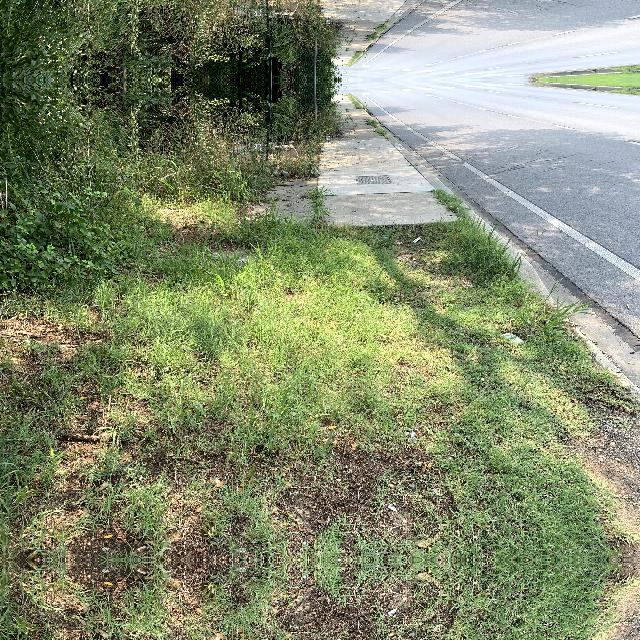Paper: (500, 332, 524, 348), (412, 237, 422, 243)
Plastic: (280, 168, 290, 178), (228, 147, 242, 153), (228, 7, 242, 13), (310, 168, 318, 175), (274, 163, 278, 175), (326, 136, 330, 140), (326, 20, 330, 24)
